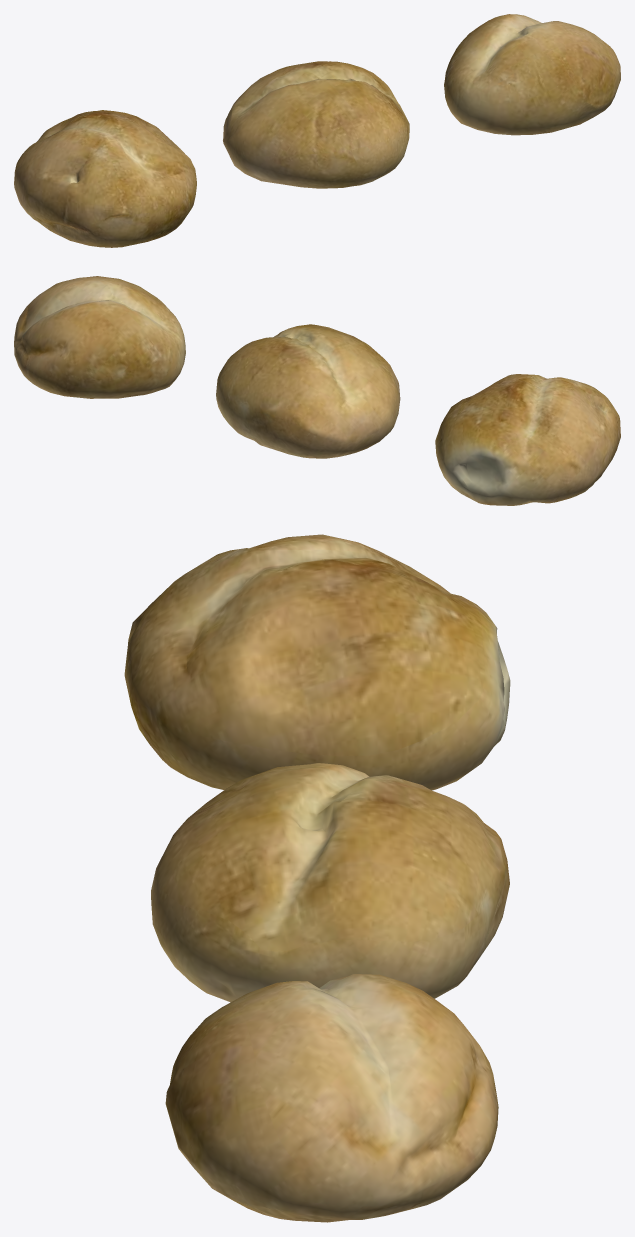
Rendered from hamburger_buns.glb.
3 renders of one model, top to bottom at view 1: azimuth 30°, elevation 25°; view 2: azimuth 150°, elevation 25°; view 3: azimuth 270°, elevation 25°, orthographic. The views are drawn at different scales.
Visible parts, largest first — view 1: hamburger_buns_01; view 2: hamburger_buns_01; view 3: hamburger_buns_01.
Part boxes in pixels (x1,y1,x2,y2): hamburger_buns_01: (14, 14, 620, 247); hamburger_buns_01: (14, 276, 620, 505); hamburger_buns_01: (124, 534, 510, 1222).
Size of the model in its own units: 0.3972 by 0.0634 by 0.1138.
1 material, 1 textured.
